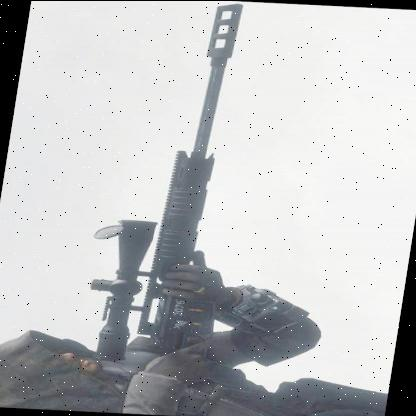rifle: (76, 0, 276, 372)
